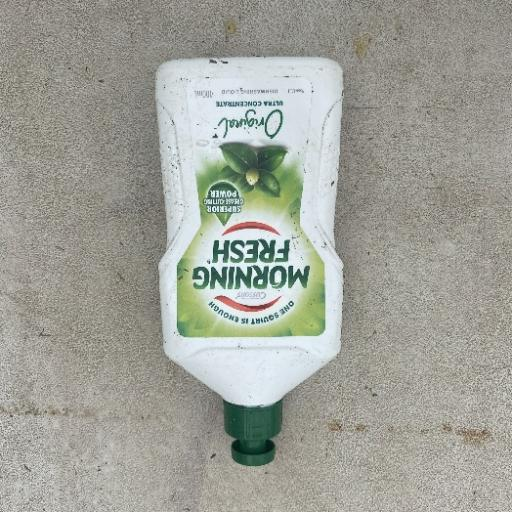Plastic: (152, 55, 347, 409)
